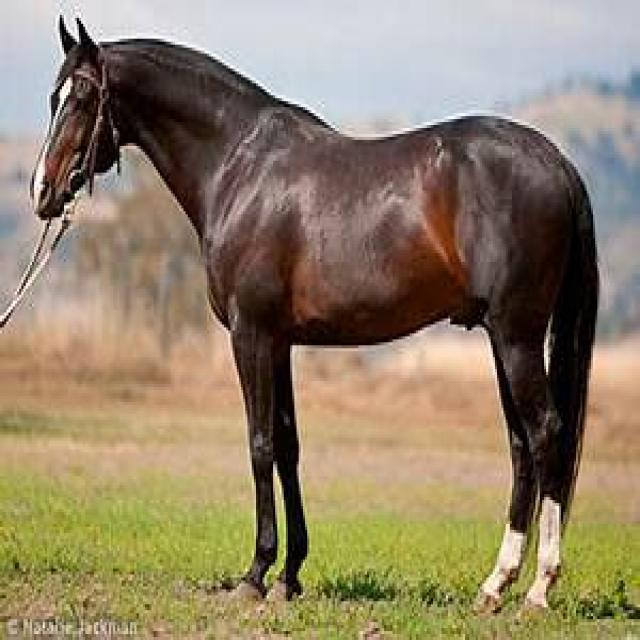horse: (32, 18, 602, 616)
